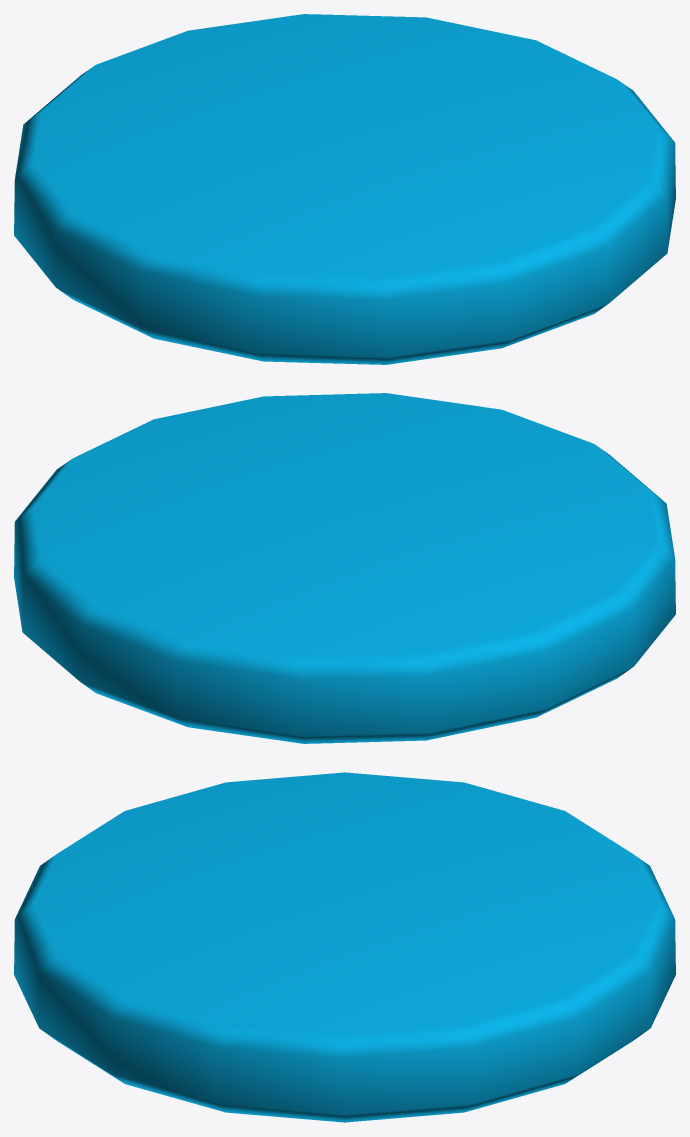
Rendered from Stool.fbx.
3 renders of one model, top to bottom at view 1: azimuth 30°, elevation 25°; view 2: azimuth 150°, elevation 25°; view 3: azimuth 270°, elevation 25°, orthographic.
Parts seen in each view (by area): view 1: Stool; view 2: Stool; view 3: Stool.
Boxes of the visible parts, x1=… form: Stool: x1=14, y1=14, x2=675, y2=364; Stool: x1=14, y1=393, x2=675, y2=743; Stool: x1=14, y1=772, x2=675, y2=1122.
Bounding box in the file's own units: 45.38 × 6.59 × 45.38.
